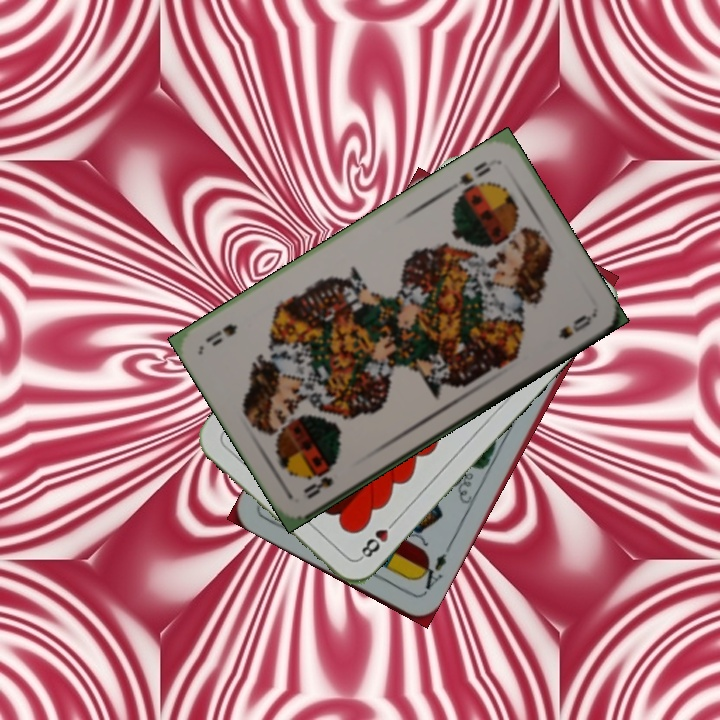EA: (413, 548, 449, 597)
H8: (355, 514, 400, 562)
SO: (299, 464, 336, 502), (454, 157, 493, 188)
